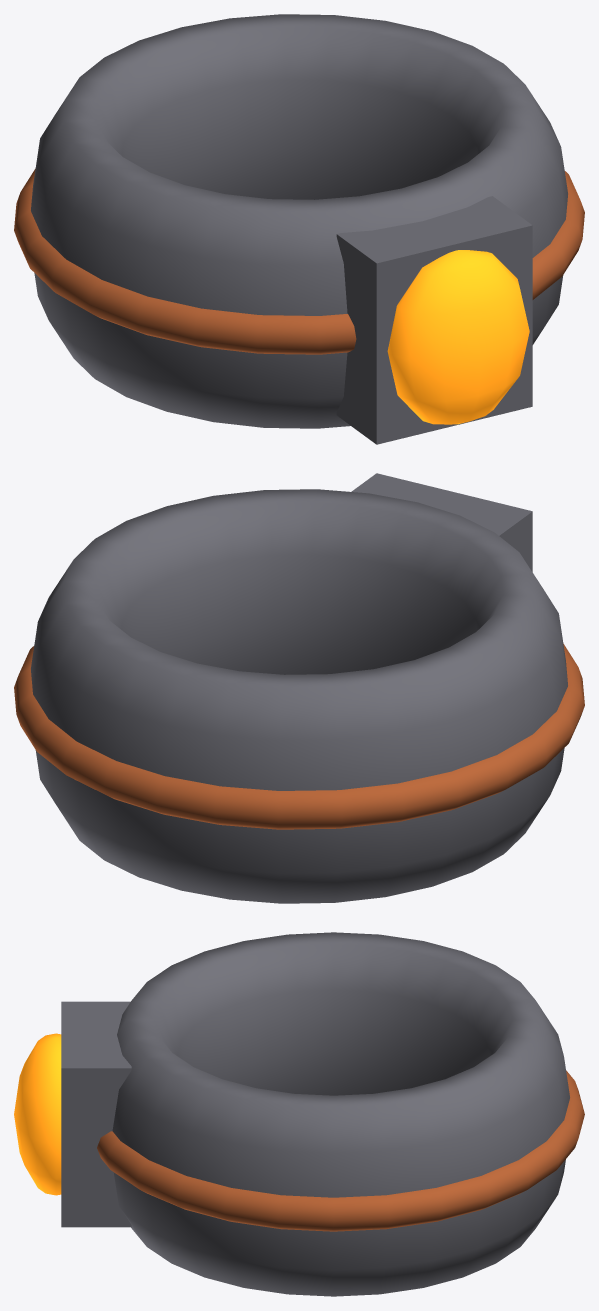
File: soeldnerring.glb
3 views of the same model, one above another, from view 1: azimuth 30°, elevation 25°; view 2: azimuth 150°, elevation 25°; view 3: azimuth 270°, elevation 25° (orthographic). The views are drawn at different scales.
Visible parts, largest first — view 1: Torus; view 2: Torus; view 3: Torus.
Boxes of the visible parts, x1,y1,x2,y2 form: Torus: (14,14,584,444); Torus: (14,473,584,903); Torus: (14,932,584,1296).
Bounding box in the file's own units: 0.0286 × 0.0119 × 0.0325.
